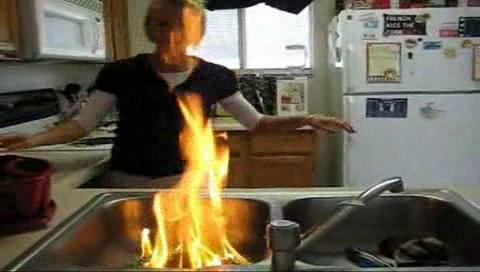fire: (142, 94, 244, 264)
